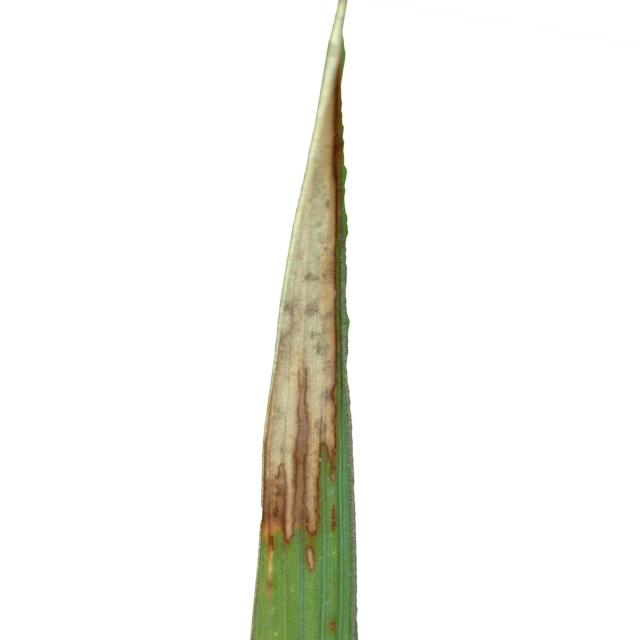Leaf scald: (174, 0, 516, 640)
